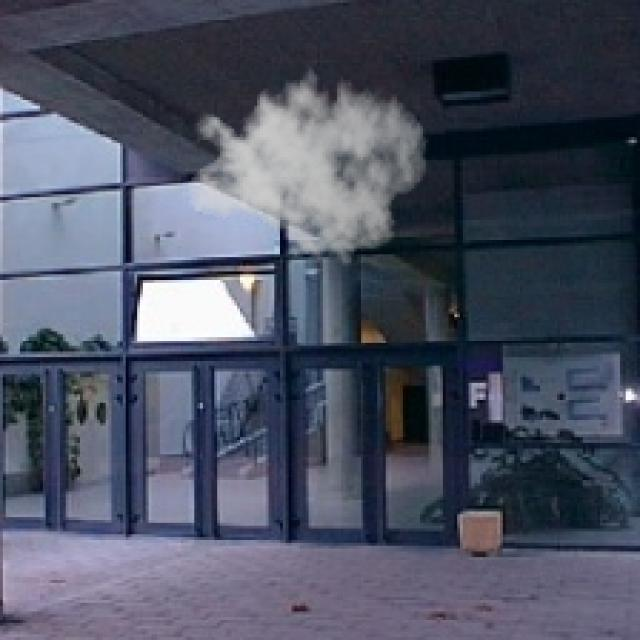Smoke: (185, 57, 428, 272)
